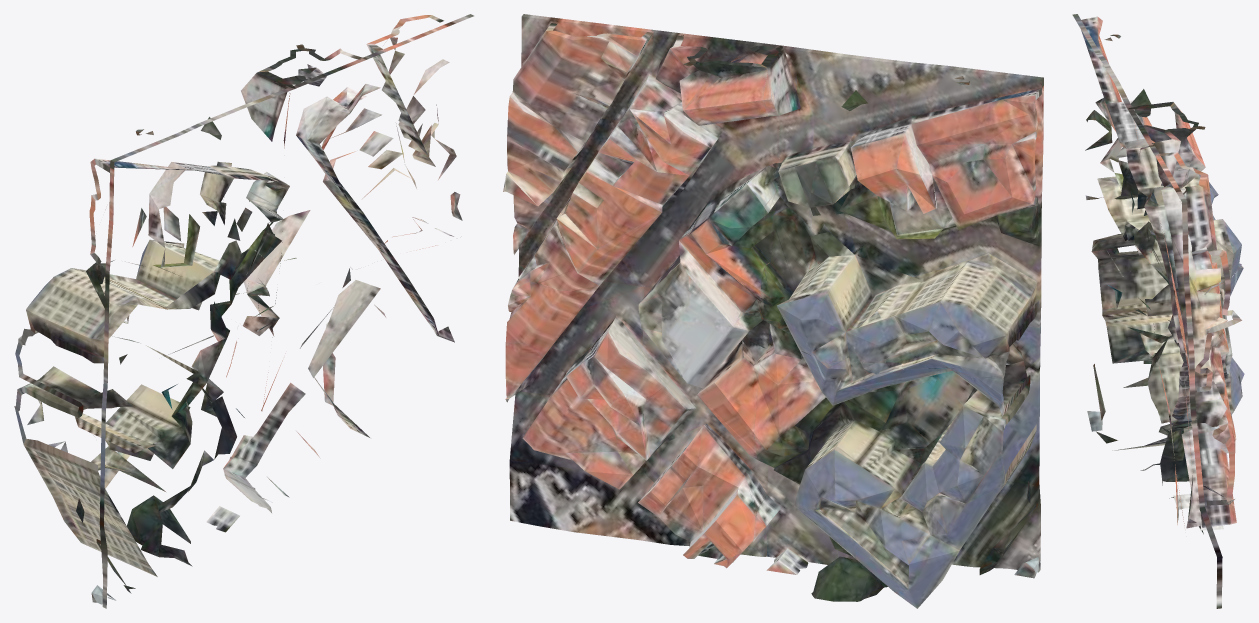
File: tile_120.glb
3 views of the same model, side by side, from view 1: azimuth 30°, elevation 25°; view 2: azimuth 150°, elevation 25°; view 3: azimuth 270°, elevation 25° (orthographic). The views are drawn at different scales.
Size of the model in its own units: 159 by 152 by 57.7.
2 materials, 2 textured.
